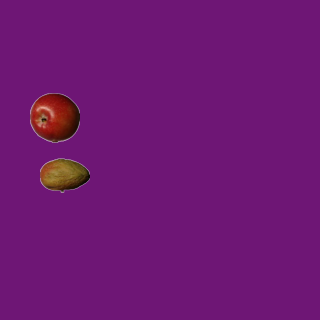Apple Braeburn: (29, 92, 79, 142)
Papaya: (39, 150, 89, 200)
